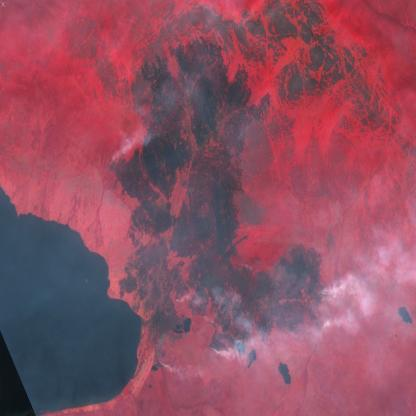fire: (148, 281, 334, 370), (104, 144, 134, 176)
